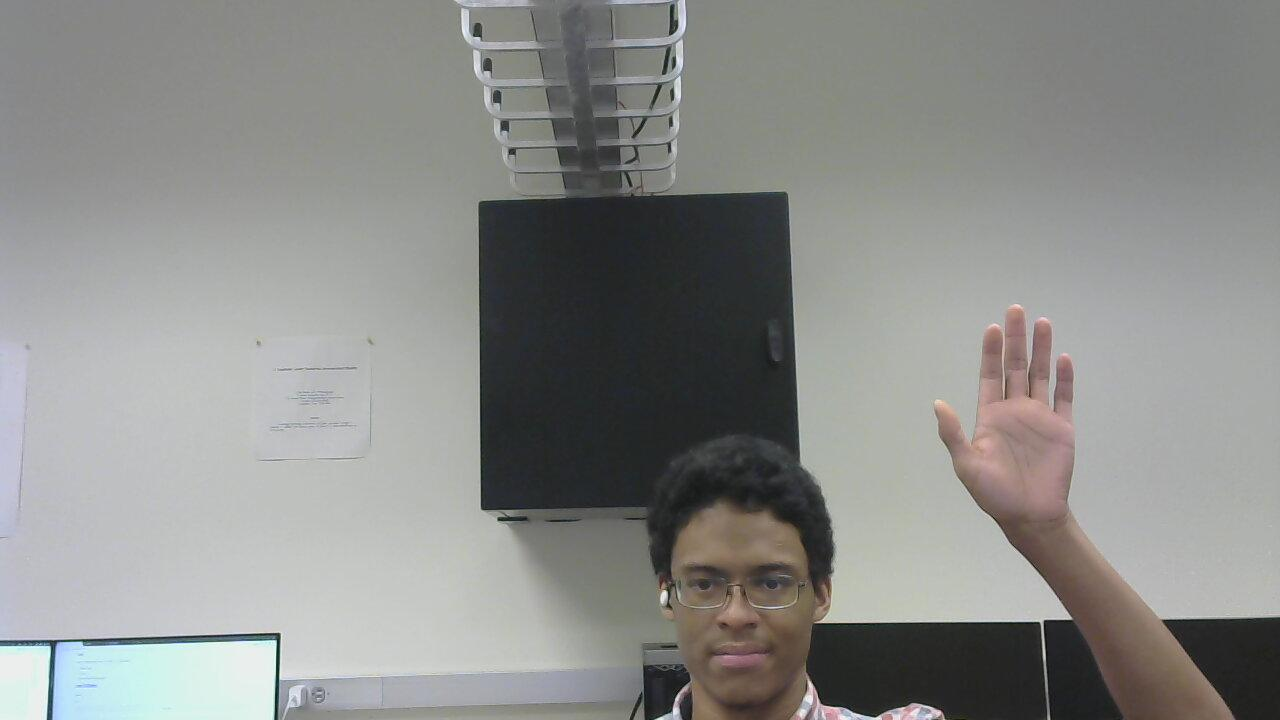hands: (933, 297, 1095, 531)
